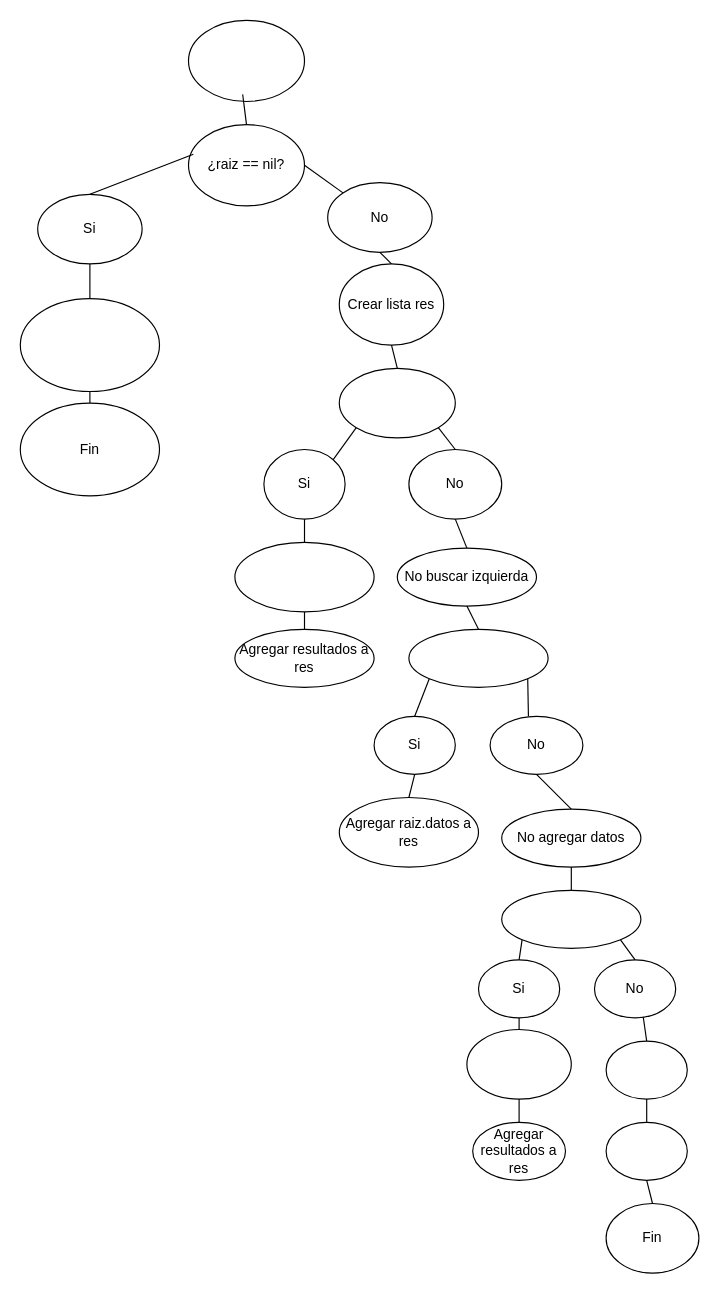
The diagram is 719 pixels wide and 1293 high, and some of its shapes have lost their labels. The shapes that lost their labels are listed below. From the top down, each one's centre as x and y in pixels, then its label:
(245,60): Inicio
(89,345): Retornar Vacio
(396,402): ¿a < raiz.clave?
(304,576): Buscar en subárbol izquierdo
(478,657): ¿a <= raiz.clave <= b?
(571,918): ¿raiz.clave < b?
(518,1063): Buscar en subárbol derecho
(646,1069): No buscar derecha
(646,1150): Retornar res
